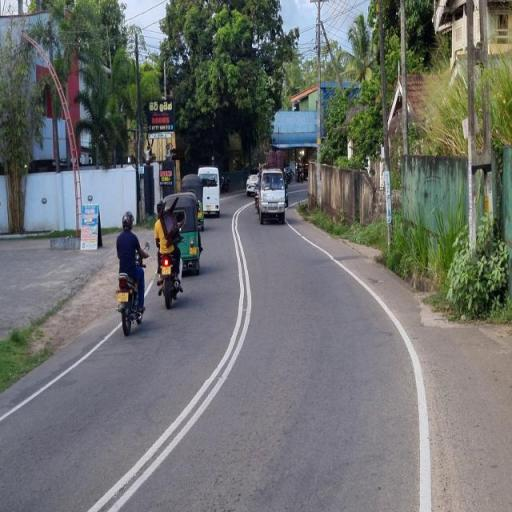double_white_line: (85, 200, 248, 510)
